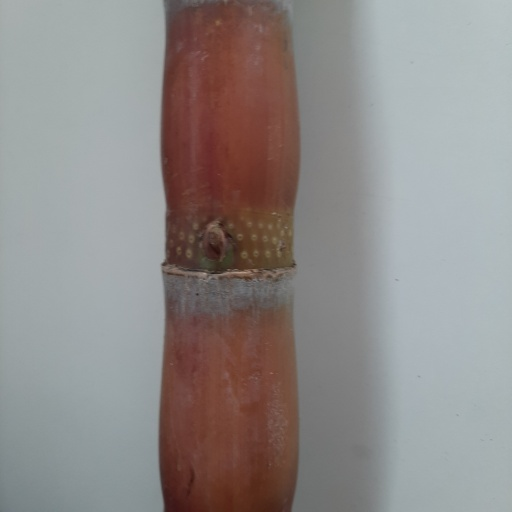Bud: (203, 222, 227, 259)
